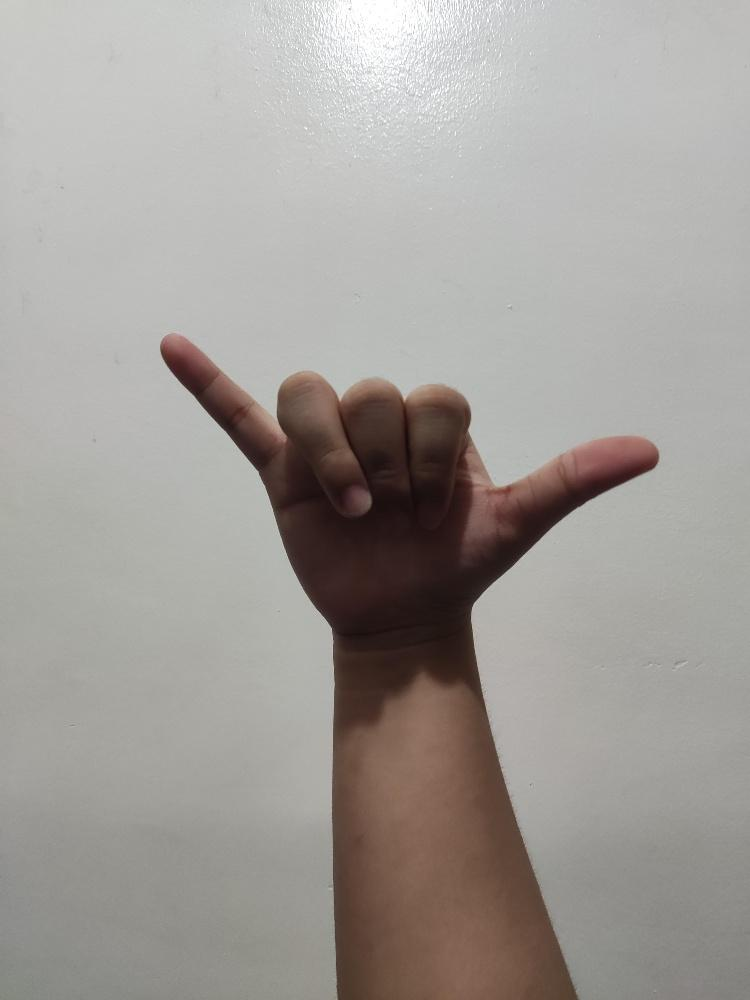y: (159, 330, 659, 632)
